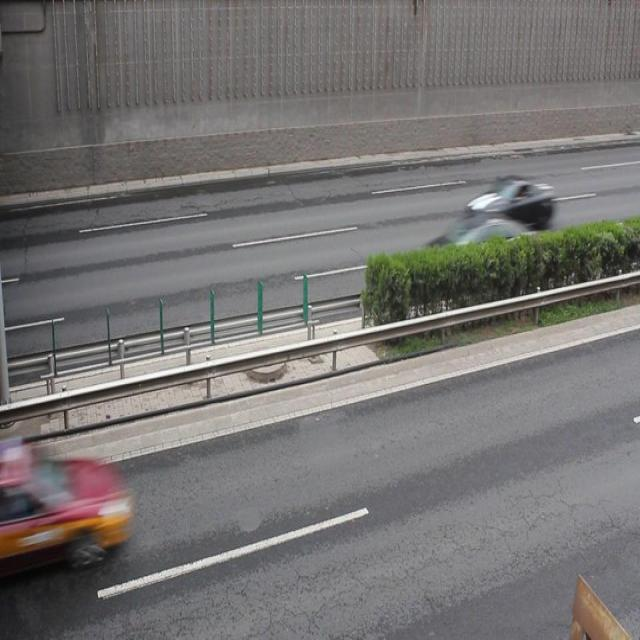car: (12, 444, 129, 574), (420, 213, 534, 291), (463, 174, 554, 232)
